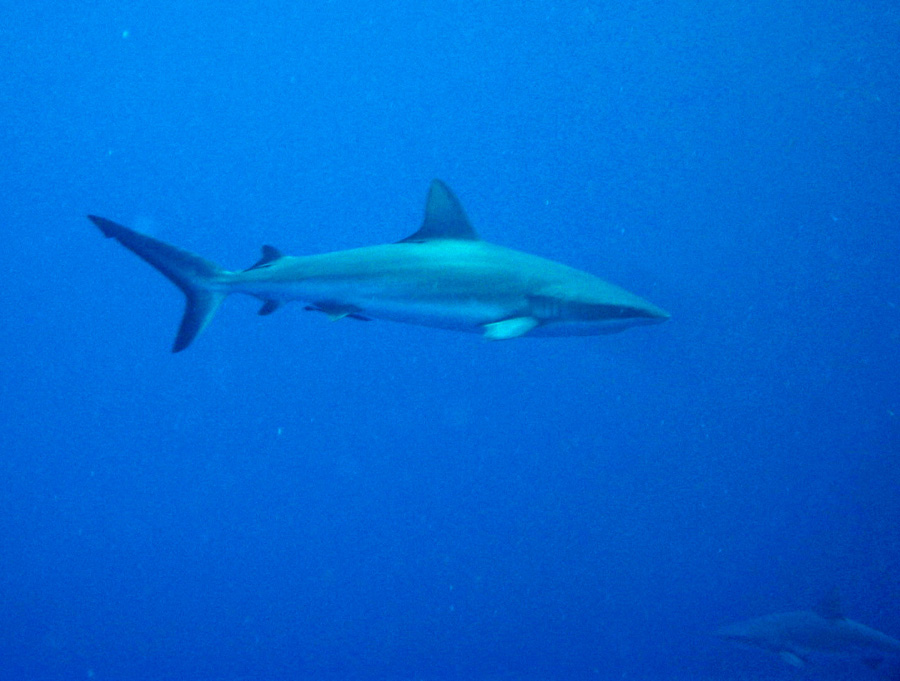Carcharhinus_amblyrhynchos: (76, 175, 692, 375)
